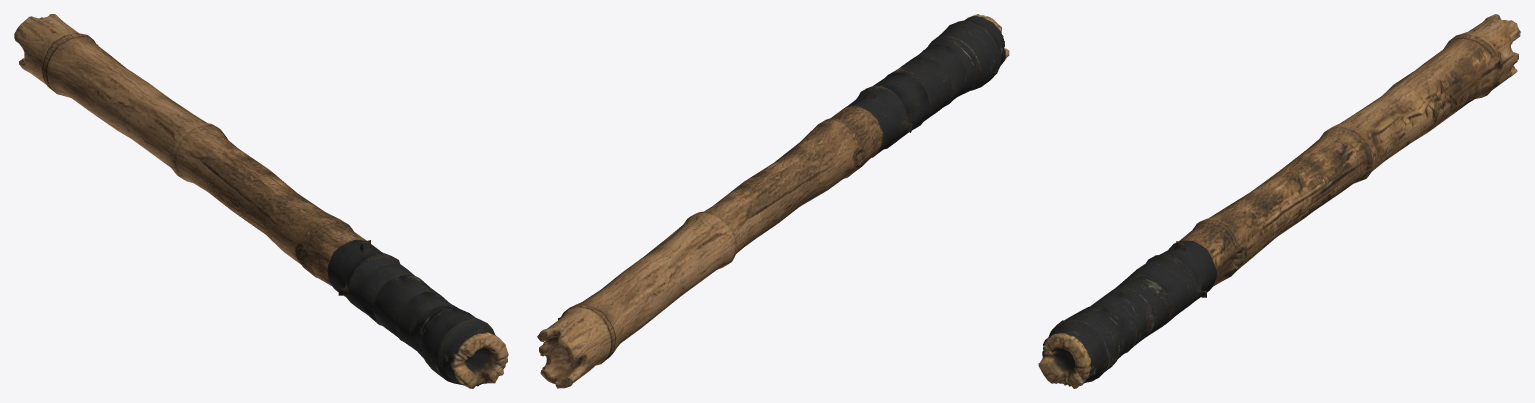
Rendered from stick.glb.
The picture shows the model from 3 angles, left to right: view 1: azimuth 30°, elevation 25°; view 2: azimuth 150°, elevation 25°; view 3: azimuth 330°, elevation 25°; orthographic projection. The views are drawn at different scales.
Visible parts, largest first — view 1: tripo_node_d635c877-59d4-4dec-8e14-53fbfc693327; view 2: tripo_node_d635c877-59d4-4dec-8e14-53fbfc693327; view 3: tripo_node_d635c877-59d4-4dec-8e14-53fbfc693327.
Part boxes in pixels (<box>): tripo_node_d635c877-59d4-4dec-8e14-53fbfc693327: <box>14,14,508,388</box>; tripo_node_d635c877-59d4-4dec-8e14-53fbfc693327: <box>537,14,1009,388</box>; tripo_node_d635c877-59d4-4dec-8e14-53fbfc693327: <box>1038,14,1520,388</box>.
Bounding box in the file's own units: 0.0918 × 0.084 × 0.998.
1 material, 1 textured.
